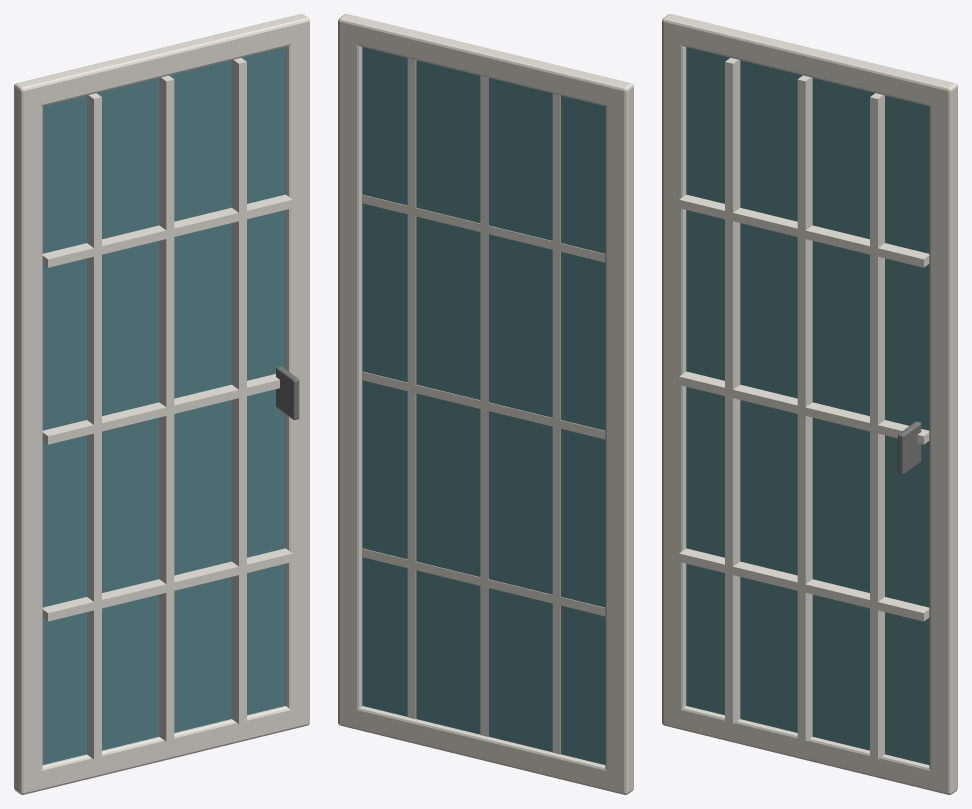
Rendered from ikea_grid_door_leaf.glb.
3 views of the same model, side by side, from view 1: azimuth 30°, elevation 25°; view 2: azimuth 150°, elevation 25°; view 3: azimuth 330°, elevation 25° (orthographic).
Visible parts, largest first — view 1: GridDoor_Glass, GridDoor_LeftStile, GridDoor_RightStile, GridDoor_Vertical_Mullion.001, GridDoor_Vertical_Mullion.002, GridDoor_Vertical_Mullion, GridDoor_Rail.001, GridDoor_Rail, GridDoor_Horizontal_Mullion.002, GridDoor_Horizontal_Mullion, GridDoor_Horizontal_Mullion.001, GridDoor_Handle; view 2: GridDoor_Glass, GridDoor_LeftStile, GridDoor_RightStile, GridDoor_Rail.001, GridDoor_Rail, GridDoor_Vertical_Mullion.002, GridDoor_Vertical_Mullion, GridDoor_Vertical_Mullion.001, GridDoor_Horizontal_Mullion.001, GridDoor_Horizontal_Mullion.002, GridDoor_Horizontal_Mullion; view 3: GridDoor_Glass, GridDoor_RightStile, GridDoor_LeftStile, GridDoor_Vertical_Mullion, GridDoor_Vertical_Mullion.001, GridDoor_Vertical_Mullion.002, GridDoor_Rail.001, GridDoor_Rail, GridDoor_Horizontal_Mullion, GridDoor_Horizontal_Mullion.002, GridDoor_Horizontal_Mullion.001, GridDoor_Handle.
Part boxes in pixels (x1,y1,x2,y2): GridDoor_Glass: [42, 47, 285, 764]; GridDoor_LeftStile: [14, 85, 42, 794]; GridDoor_RightStile: [285, 21, 309, 728]; GridDoor_Vertical_Mullion.001: [159, 75, 174, 741]; GridDoor_Vertical_Mullion.002: [231, 58, 246, 723]; GridDoor_Vertical_Mullion: [87, 93, 101, 759]; GridDoor_Rail.001: [14, 14, 309, 109]; GridDoor_Rail: [15, 706, 309, 794]; GridDoor_Horizontal_Mullion.002: [42, 194, 292, 267]; GridDoor_Horizontal_Mullion: [42, 548, 292, 621]; GridDoor_Horizontal_Mullion.001: [42, 374, 279, 444]; GridDoor_Handle: [276, 366, 299, 419]; GridDoor_Glass: [362, 47, 605, 764]; GridDoor_LeftStile: [605, 85, 633, 794]; GridDoor_RightStile: [338, 21, 362, 728]; GridDoor_Rail.001: [338, 14, 633, 108]; GridDoor_Rail: [338, 706, 632, 794]; GridDoor_Vertical_Mullion.002: [407, 58, 416, 719]; GridDoor_Vertical_Mullion: [552, 93, 560, 754]; GridDoor_Vertical_Mullion.001: [480, 76, 488, 736]; GridDoor_Horizontal_Mullion.001: [362, 371, 605, 439]; GridDoor_Horizontal_Mullion.002: [362, 194, 605, 262]; GridDoor_Horizontal_Mullion: [362, 548, 605, 616]; GridDoor_Glass: [686, 47, 929, 764]; GridDoor_RightStile: [929, 85, 957, 794]; GridDoor_LeftStile: [662, 21, 686, 728]; GridDoor_Vertical_Mullion: [725, 58, 740, 723]; GridDoor_Vertical_Mullion.001: [797, 75, 812, 741]; GridDoor_Vertical_Mullion.002: [870, 93, 884, 759]; GridDoor_Rail.001: [662, 14, 957, 109]; GridDoor_Rail: [662, 705, 956, 794]; GridDoor_Horizontal_Mullion: [679, 548, 929, 621]; GridDoor_Horizontal_Mullion.002: [679, 194, 929, 267]; GridDoor_Horizontal_Mullion.001: [679, 371, 929, 444]; GridDoor_Handle: [898, 421, 921, 474].
Bounding box in the file's own units: 0.9 × 2.1 × 0.1425.
